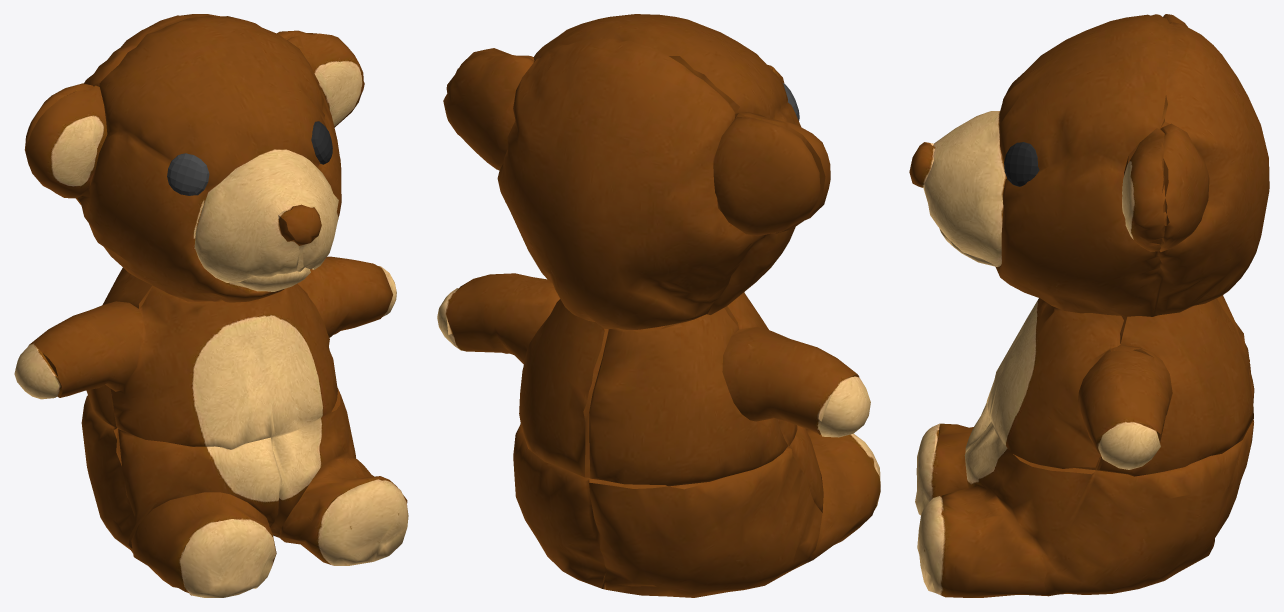
File: sf-teddy-bear.glb
The picture shows the model from 3 angles, left to right: view 1: azimuth 30°, elevation 25°; view 2: azimuth 150°, elevation 25°; view 3: azimuth 270°, elevation 25°; orthographic projection. The views are drawn at different scales.
Parts seen in each view (by area): view 1: Group24127_Material #27_0, Group24127_Material #26_0, Group24127_Material #25_0; view 2: Group24127_Material #27_0; view 3: Group24127_Material #27_0, Group24127_Material #25_0.
Boxes of the visible parts, x1,y1,x2,y2 form: Group24127_Material #27_0: (14,14,408,597); Group24127_Material #26_0: (167,153,209,195); Group24127_Material #25_0: (311,121,332,164); Group24127_Material #27_0: (437,14,880,597); Group24127_Material #27_0: (909,14,1269,597); Group24127_Material #25_0: (1004,142,1039,186).
Bounding box in the file's own units: 0.2834 × 0.35 × 0.2222.
3 materials, 1 textured.
